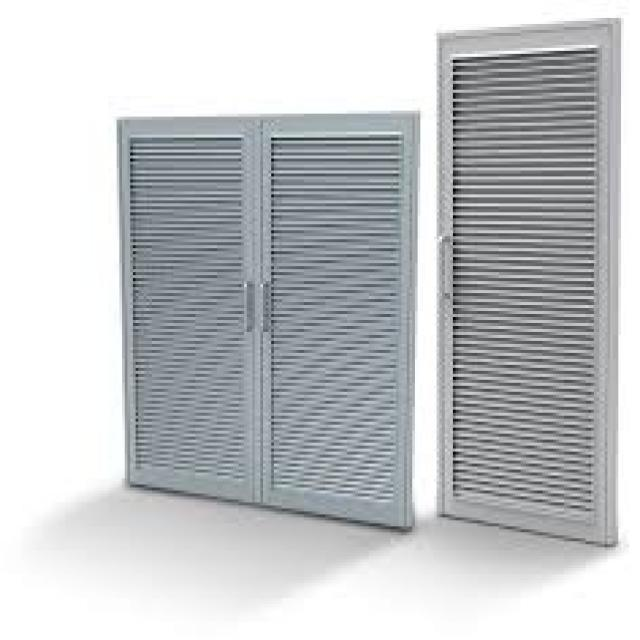door: (118, 109, 419, 531)
